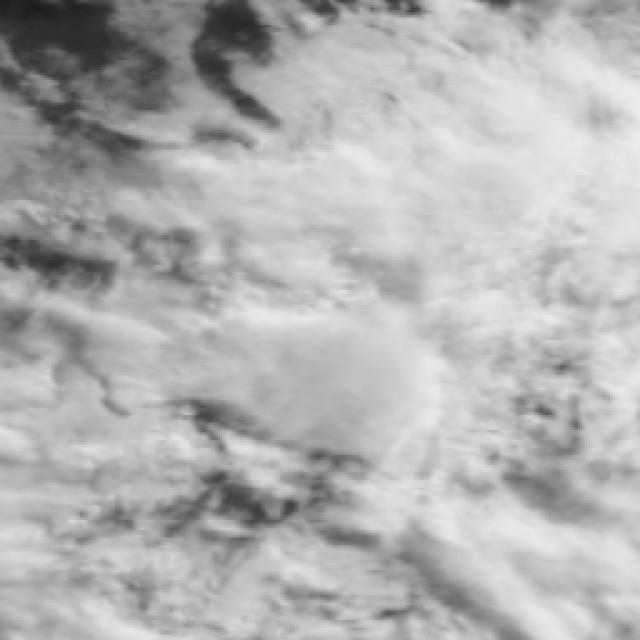CB: (306, 65, 628, 249), (168, 305, 476, 454), (417, 467, 640, 640)
